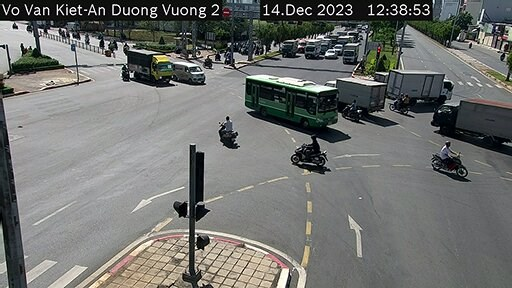bus: (236, 66, 340, 128)
car: (167, 56, 206, 90), (322, 46, 338, 59)
motorbike: (286, 129, 337, 172), (425, 140, 467, 178), (213, 113, 239, 150), (393, 92, 411, 119), (342, 97, 362, 121), (117, 64, 132, 86), (201, 55, 218, 69)
truck: (432, 92, 512, 144), (327, 70, 384, 119), (386, 65, 456, 102), (125, 46, 171, 87), (275, 38, 300, 62), (298, 40, 323, 64), (338, 46, 361, 65)
